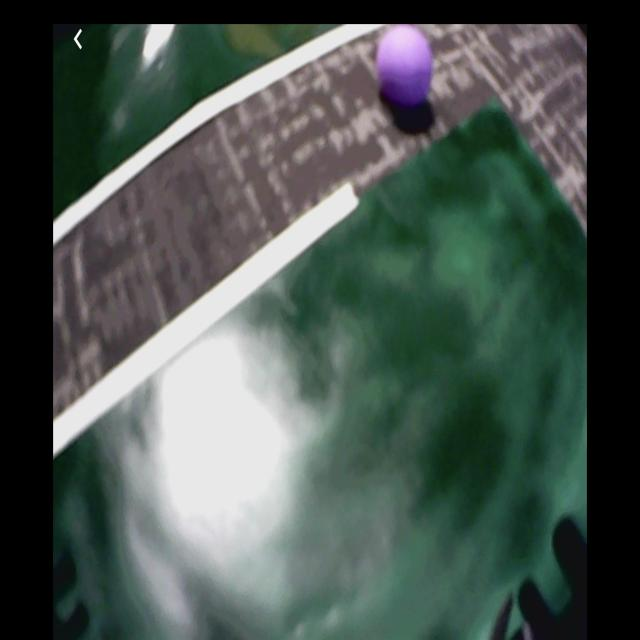ball: (376, 25, 434, 104)
